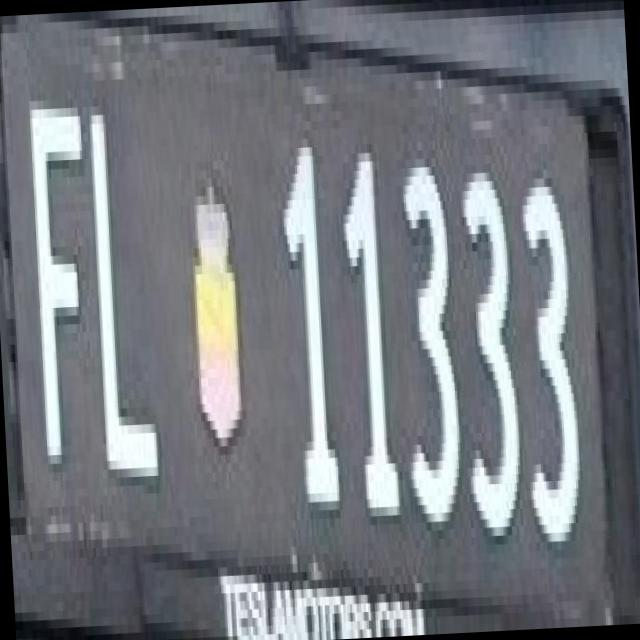1: (257, 103, 346, 487), (322, 126, 407, 510), (162, 151, 255, 449)
3: (382, 122, 471, 524), (443, 154, 533, 529), (502, 152, 587, 526)
F: (10, 81, 98, 456)
L: (67, 78, 165, 471)
